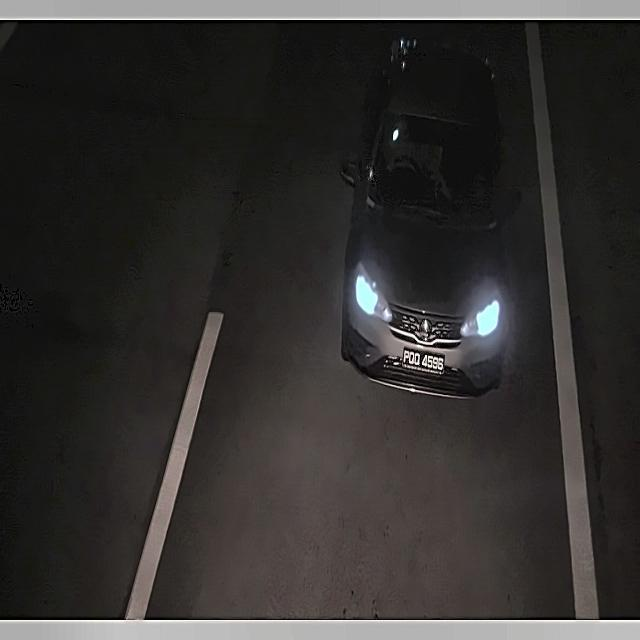car: (401, 342, 447, 381)
